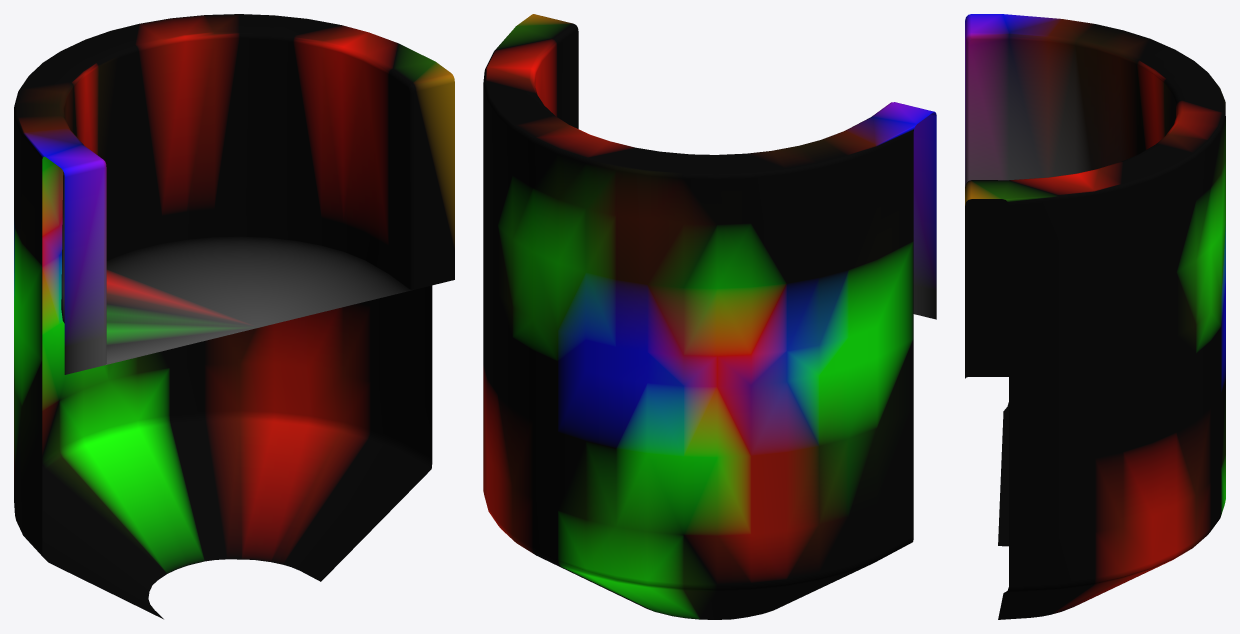
Rendered from SM_MERGED_SM_Platform_Overhang_Cylinder_01_97.FBX.
The picture shows the model from 3 angles, left to right: view 1: azimuth 30°, elevation 25°; view 2: azimuth 150°, elevation 25°; view 3: azimuth 270°, elevation 25°; orthographic projection. The views are drawn at different scales.
Parts seen in each view (by area): view 1: SM_MERGED_SM_Platform_Overhang_Cylinder_01_97; view 2: SM_MERGED_SM_Platform_Overhang_Cylinder_01_97; view 3: SM_MERGED_SM_Platform_Overhang_Cylinder_01_97.
Part boxes in pixels (x1,y1,x2,y2): SM_MERGED_SM_Platform_Overhang_Cylinder_01_97: (14,14,454,619); SM_MERGED_SM_Platform_Overhang_Cylinder_01_97: (483,14,936,619); SM_MERGED_SM_Platform_Overhang_Cylinder_01_97: (965,14,1225,619).
Size of what is drawn, in the model's own units: 250 by 149 by 300.
